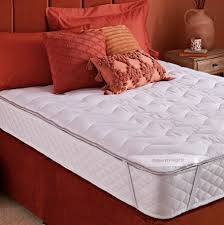bed-matress: (1, 59, 224, 221)
